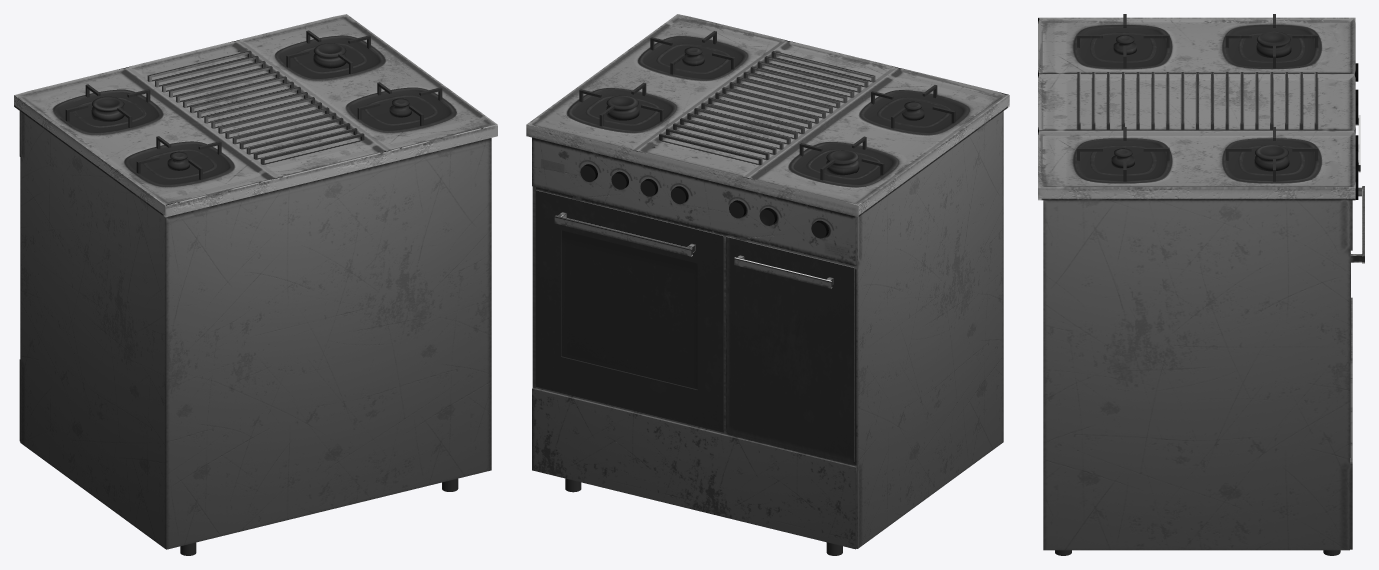
Rendered from STOVE.fbx.
3 renders of one model, left to right at view 1: azimuth 30°, elevation 25°; view 2: azimuth 150°, elevation 25°; view 3: azimuth 270°, elevation 25°, orthographic. The views are drawn at different scales.
Visible parts, largest first — view 1: STOVE.LOD 1; view 2: STOVE.LOD 1; view 3: STOVE.LOD 1.
Boxes of the visible parts, bbox=[...] form: STOVE.LOD 1: bbox=[14, 14, 497, 555]; STOVE.LOD 1: bbox=[526, 14, 1009, 555]; STOVE.LOD 1: bbox=[1038, 14, 1364, 555].
Size of the model in its own units: 1.19 by 0.9636 by 1.28.
